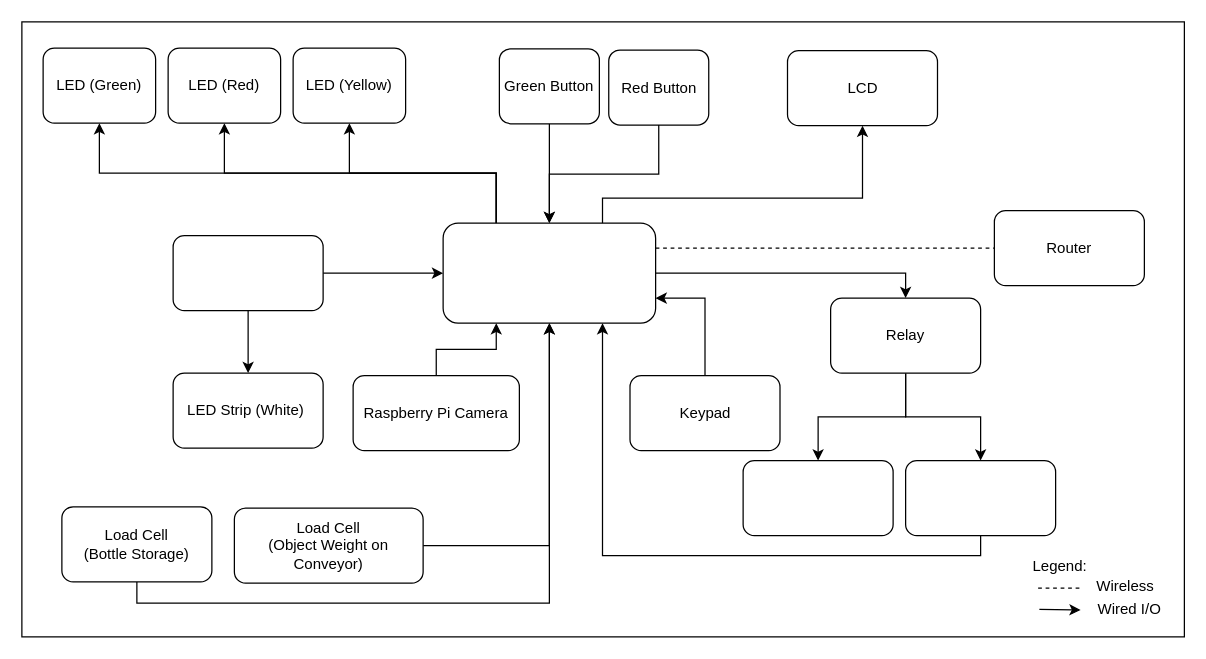
The diagram is 1206 pixels wide and 659 high, and some of its shapes have lost their labels. Here are the shapes that lost their labels. From the top down, the box of each, then its label:
(172, 234, 323, 311): PSU (Power Supply)
(442, 222, 656, 323): Raspberry Pi 3 Model B+ (Microcontroller)
(742, 459, 893, 536): Conveyor
(904, 459, 1056, 536): Coin Hopper
